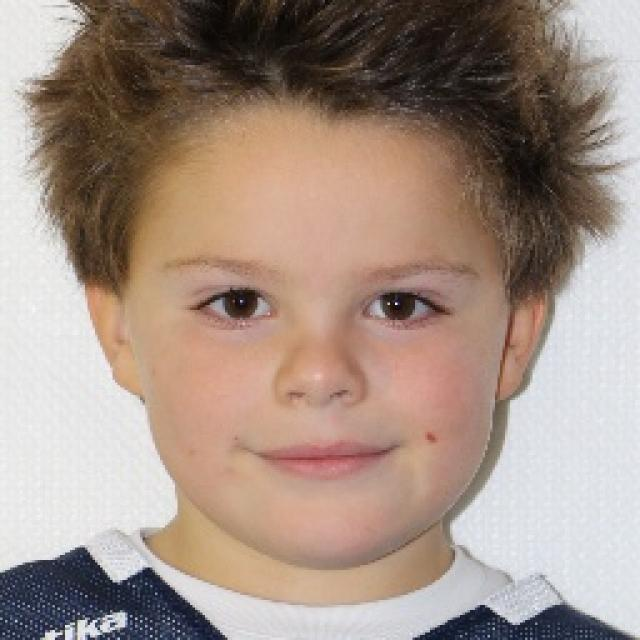earlobe: (111, 340, 144, 398), (495, 351, 527, 403)
eye: (360, 288, 444, 325), (196, 287, 275, 323)
nose: (273, 386, 365, 434)
wholeear: (85, 274, 144, 397), (495, 277, 548, 403)
